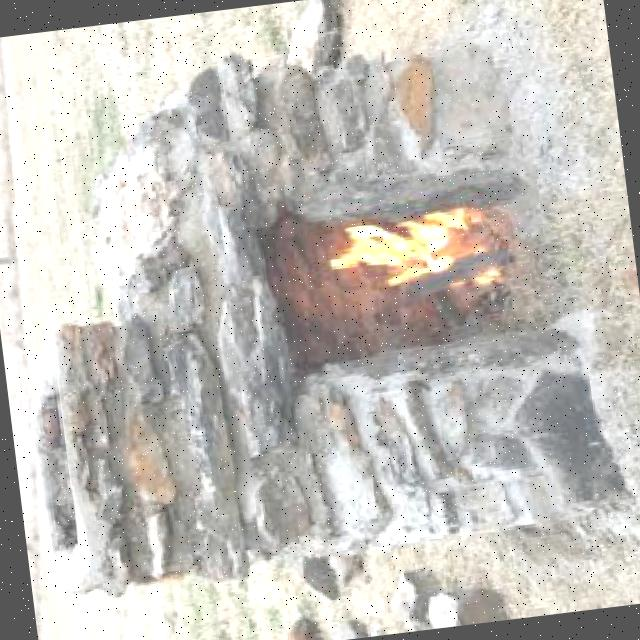fire: (324, 191, 512, 308)
